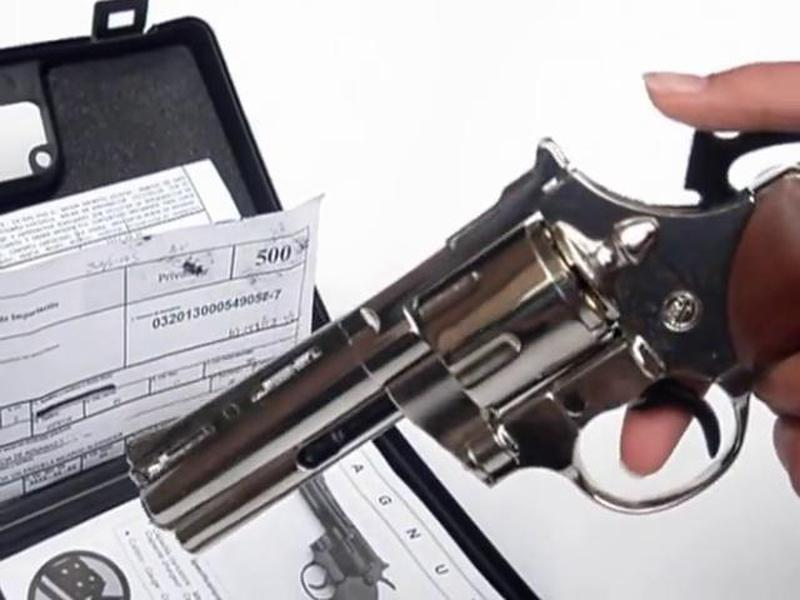Revolver: (117, 110, 800, 537)
